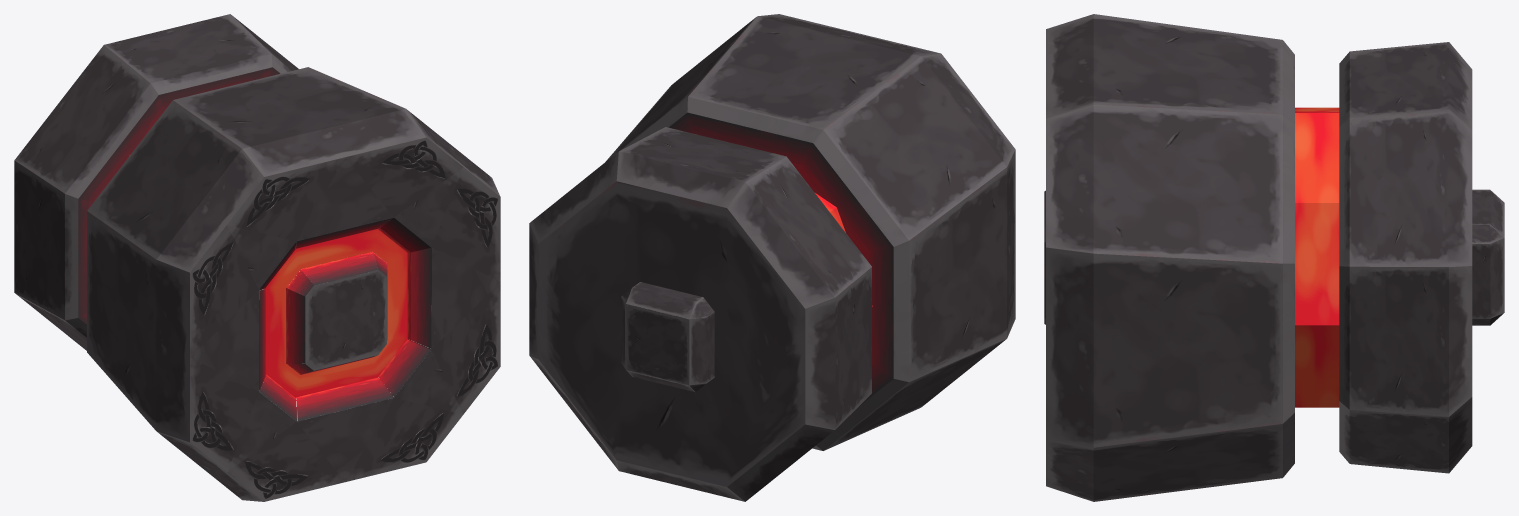
Rendered from electromagnet.obj.
3 renders of one model, left to right at view 1: azimuth 30°, elevation 25°; view 2: azimuth 150°, elevation 25°; view 3: azimuth 270°, elevation 25°, orthographic. The views are drawn at different scales.
Visible parts, largest first — view 1: electrical-magnet; view 2: electrical-magnet; view 3: electrical-magnet.
Part boxes in pixels (x1,y1,x2,y2): electrical-magnet: [14, 14, 500, 501]; electrical-magnet: [529, 14, 1015, 501]; electrical-magnet: [1044, 14, 1504, 501].
Bounding box in the file's own units: 1.96 × 1.96 × 2.06.
